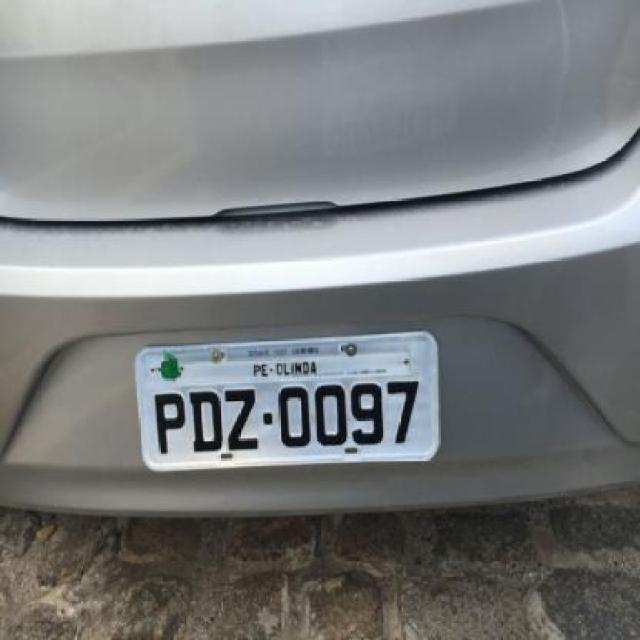old_plate: (124, 325, 449, 480)
